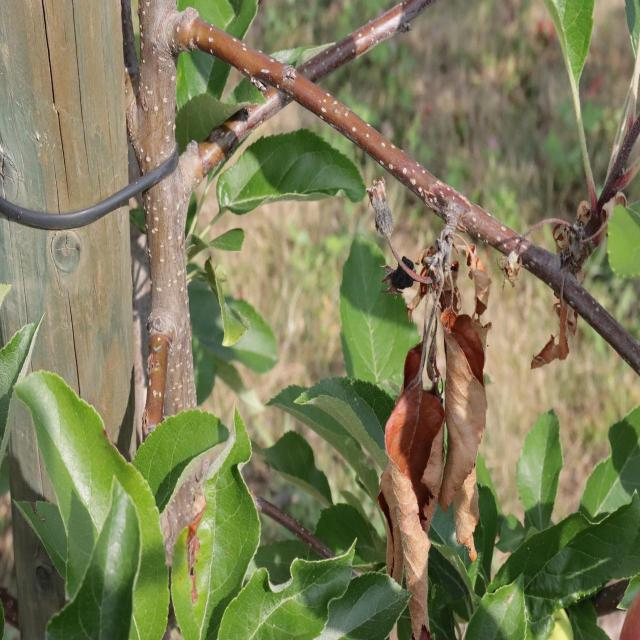-FireBlight-: (364, 232, 500, 639)
